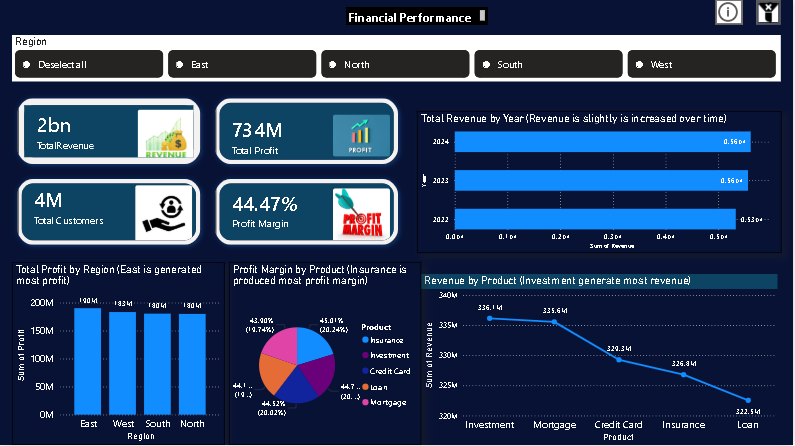

The page's visual inventory and layout, read from the dashboard file:
{"tool":"powerbi","page":{"name":"Overview","canvas":[1280,720],"ordinal":0},"visuals":[{"type":"cardVisual","fields":{"Data":["Sum(financial_dataset_15000_rows.Revenue)","Sum(financial_dataset_15000_rows.Profit)","Sum(financial_dataset_15000_rows.Customers)","financial_dataset_15000_rows.Profit Margin"]},"box":[0,132.5,671,292.3],"z":0},{"type":"lineChart","title":"Revenue by Product  (Investment generate most revenue)","fields":{"Category":["financial_dataset_15000_rows.Product"],"Y":["Sum(financial_dataset_15000_rows.Revenue)"]},"box":[678.2,443.5,574.6,276.5],"z":1000},{"type":"barChart","title":"Total Revenue by Year (Revenue is slightly is increased over time)","fields":{"Y":["Sum(financial_dataset_15000_rows.Revenue)"],"Category":["financial_dataset_15000_rows.Date.Variation.Date Hierarchy.Year","financial_dataset_15000_rows.Date.Variation.Date Hierarchy.Quarter","financial_dataset_15000_rows.Date.Variation.Date Hierarchy.Month","financial_dataset_15000_rows.Date.Variation.Date Hierarchy.Day"]},"box":[672.5,180,587.5,229],"z":2000},{"type":"advancedSlicerVisual","fields":{"Values":["financial_dataset_15000_rows.Region"]},"box":[20.2,57.6,1239.8,74.9],"z":3000},{"type":"columnChart","title":"Total Profit by Region (East  is generated most profit)","fields":{"Category":["financial_dataset_15000_rows.Region"],"Y":["Sum(financial_dataset_15000_rows.Profit)"]},"box":[20.2,424.8,342.7,295.2],"z":4000},{"type":"pieChart","title":"Profit Margin by Product (Insurance is produced most profit margin)","fields":{"Y":["financial_dataset_15000_rows.Profit Margin"],"Category":["financial_dataset_15000_rows.Product"]},"box":[368.6,424.8,309.6,295.2],"z":5000},{"type":"textbox","box":[557.3,13,229,28.8],"z":6000},{"type":"actionButton","box":[1219.7,1.4,40.3,40.3],"z":7000},{"type":"actionButton","box":[1153.2,0,45.2,41.9],"z":8000}]}

Visuals, with their boxes in screenshot pixels (x1, y1, x2, y2), scaled from the page's 1280x720 canvas onto the 795x446 screenshot:
cardVisual - Sum(financial_dataset_15000_rows.Revenue) x Sum(financial_dataset_15000_rows.Profit): {"x1": 0, "y1": 82, "x2": 417, "y2": 263}
"Revenue by Product  (Investment generate most revenue)" lineChart: {"x1": 421, "y1": 275, "x2": 778, "y2": 445}
"Total Revenue by Year (Revenue is slightly is increased over time)" barChart: {"x1": 418, "y1": 112, "x2": 783, "y2": 253}
advancedSlicerVisual - financial_dataset_15000_rows.Region: {"x1": 13, "y1": 36, "x2": 783, "y2": 82}
"Total Profit by Region (East  is generated most profit)" columnChart: {"x1": 13, "y1": 263, "x2": 225, "y2": 445}
"Profit Margin by Product (Insurance is produced most profit margin)" pieChart: {"x1": 229, "y1": 263, "x2": 421, "y2": 445}
textbox: {"x1": 346, "y1": 8, "x2": 488, "y2": 26}
actionButton: {"x1": 758, "y1": 1, "x2": 783, "y2": 26}
actionButton: {"x1": 716, "y1": 0, "x2": 744, "y2": 26}
